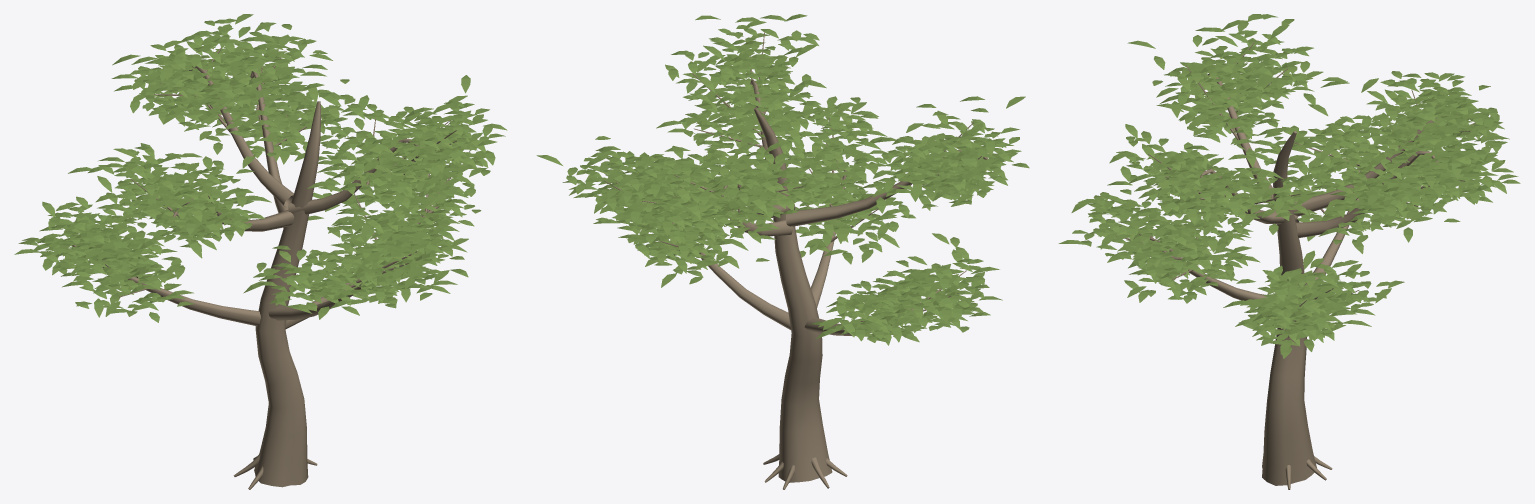
The model's file is canopy_broad_lod0.glb.
3 views of the same model, side by side, from view 1: azimuth 30°, elevation 25°; view 2: azimuth 150°, elevation 25°; view 3: azimuth 270°, elevation 25° (orthographic).
Parts seen in each view (by area): view 1: Leaves, Bark; view 2: Leaves, Bark; view 3: Leaves, Bark.
Boxes of the visible parts, x1,y1,x2,y2 form: Leaves: (14,14,507,322); Bark: (66,48,470,489); Leaves: (536,14,1029,345); Bark: (594,32,987,489); Leaves: (1058,14,1520,358); Bark: (1107,43,1475,489).
Bounding box in the file's own units: 12.24 × 10.24 × 10.81.
